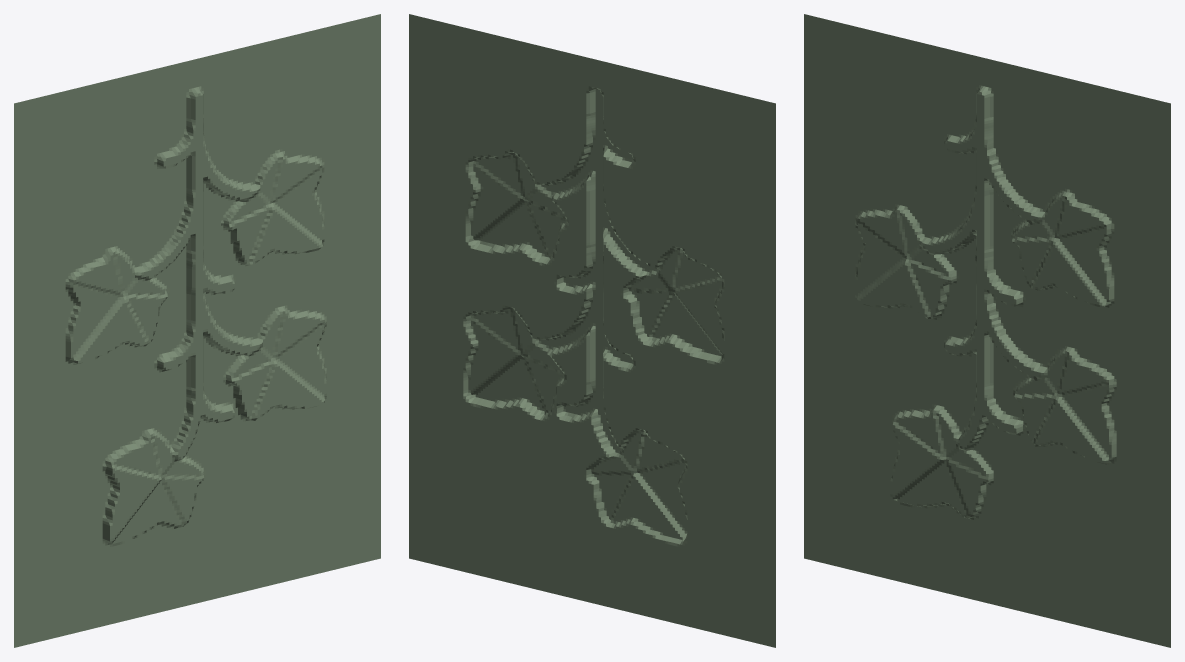
Rendered from ivy.glb.
3 renders of one model, left to right at view 1: azimuth 30°, elevation 25°; view 2: azimuth 150°, elevation 25°; view 3: azimuth 330°, elevation 25°, orthographic.
Visible parts, largest first — view 1: Plane.045; view 2: Plane.045; view 3: Plane.045.
Boxes of the visible parts, x1=… form: Plane.045: x1=14, y1=14, x2=380, y2=647; Plane.045: x1=409, y1=14, x2=775, y2=647; Plane.045: x1=804, y1=14, x2=1170, y2=647.
Size of the model in its own units: 4.1 by 5.82 by 0.0952.
